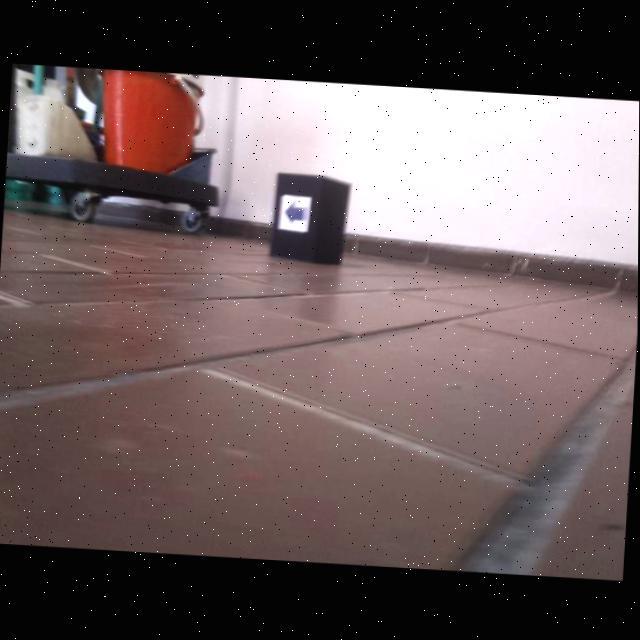LEFT: (285, 200, 307, 226)
